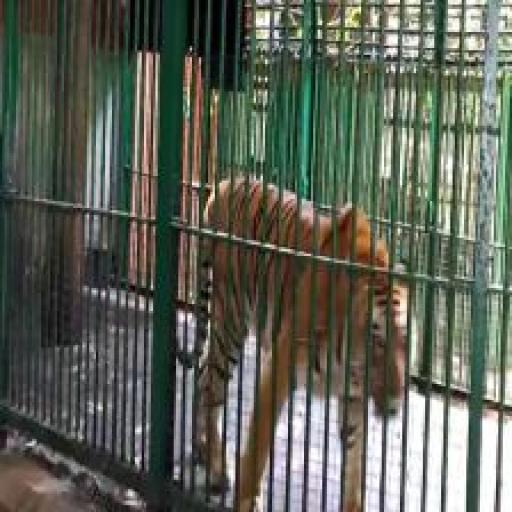Tiger: (178, 167, 420, 512)
